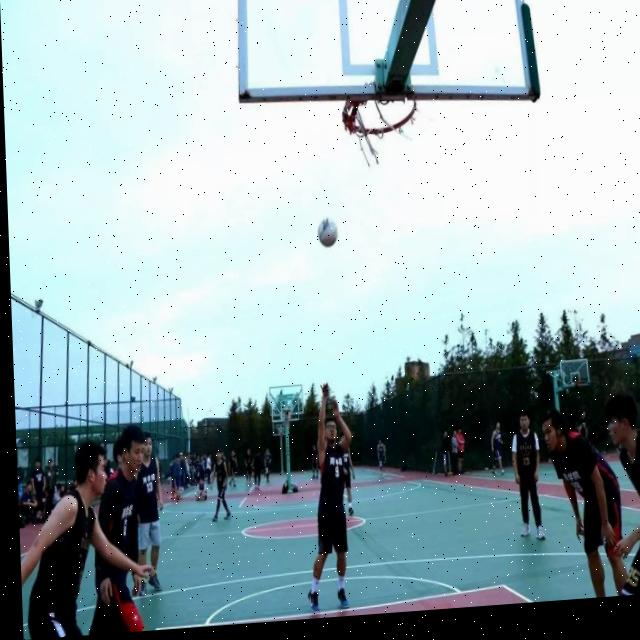basketball: (316, 215, 339, 250)
hoop: (340, 77, 421, 173), (282, 408, 293, 427), (575, 379, 585, 393)
